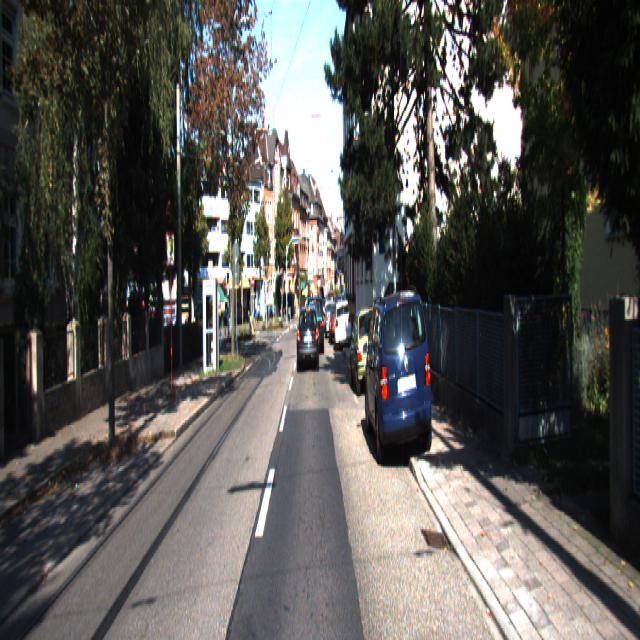Car: (362, 283, 435, 476), (350, 303, 384, 398), (297, 303, 319, 375), (306, 294, 324, 356), (334, 298, 352, 352)
